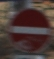No entry: (5, 6, 48, 53)
